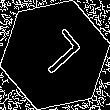L_SW: (27, 27, 83, 83)
